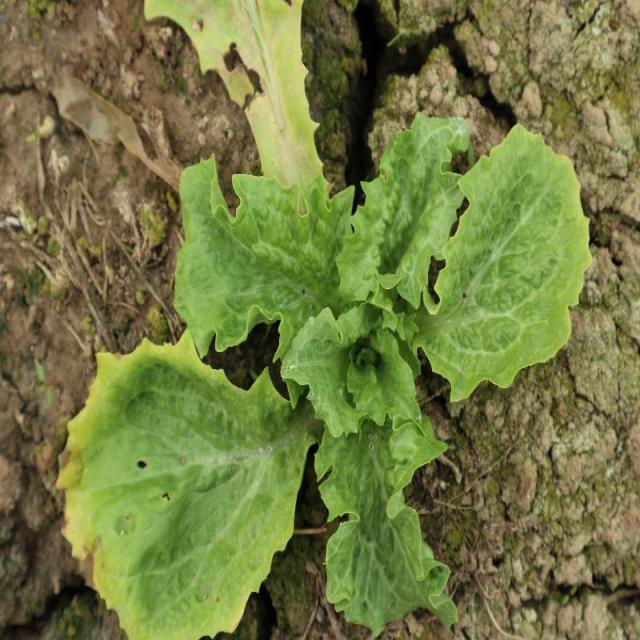crop: (55, 111, 592, 638)
